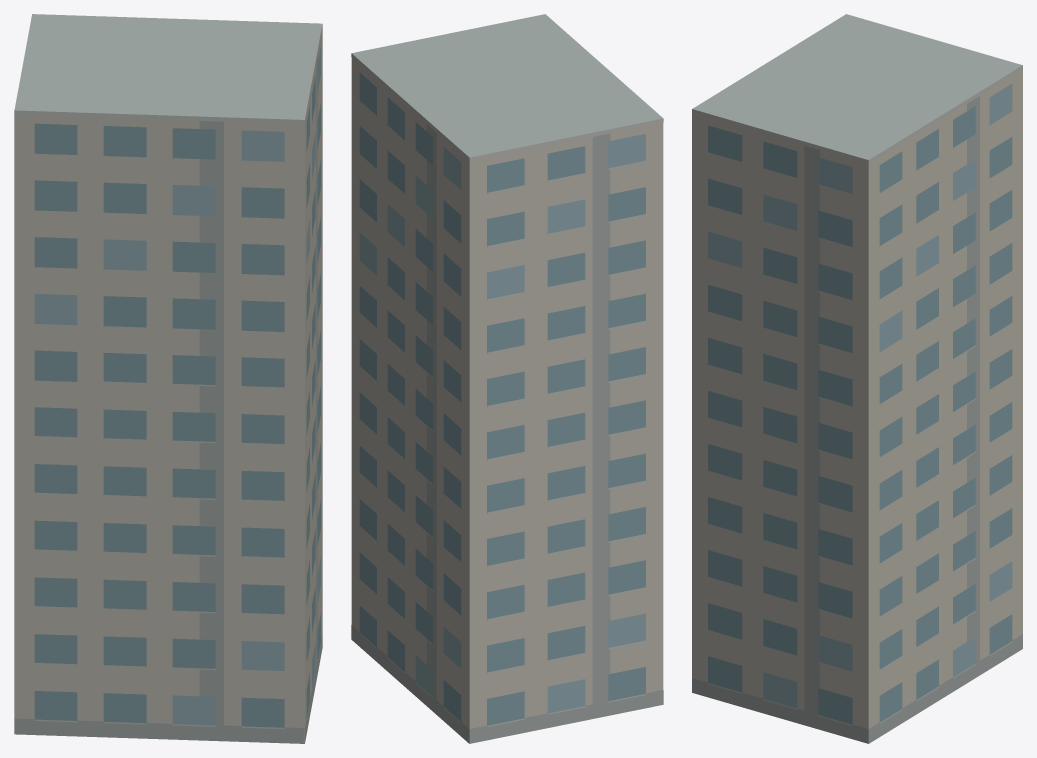
File: residential-d5765a6a-76af-4aef-8fe8-638e7bcedfe0.glb
3 views of the same model, side by side, from view 1: azimuth 30°, elevation 25°; view 2: azimuth 150°, elevation 25°; view 3: azimuth 270°, elevation 25° (orthographic). The views are drawn at different scales.
Parts seen in each view (by area): view 1: residential-d5765a6a-76af-4aef-8fe8-638e7bcedfe0.tmp; view 2: residential-d5765a6a-76af-4aef-8fe8-638e7bcedfe0.tmp; view 3: residential-d5765a6a-76af-4aef-8fe8-638e7bcedfe0.tmp.
Boxes of the visible parts, x1=… form: residential-d5765a6a-76af-4aef-8fe8-638e7bcedfe0.tmp: x1=14, y1=14, x2=322, y2=743; residential-d5765a6a-76af-4aef-8fe8-638e7bcedfe0.tmp: x1=351, y1=14, x2=663, y2=743; residential-d5765a6a-76af-4aef-8fe8-638e7bcedfe0.tmp: x1=692, y1=14, x2=1022, y2=743.
Bounding box in the file's own units: 18.26 × 34 × 17.46.
